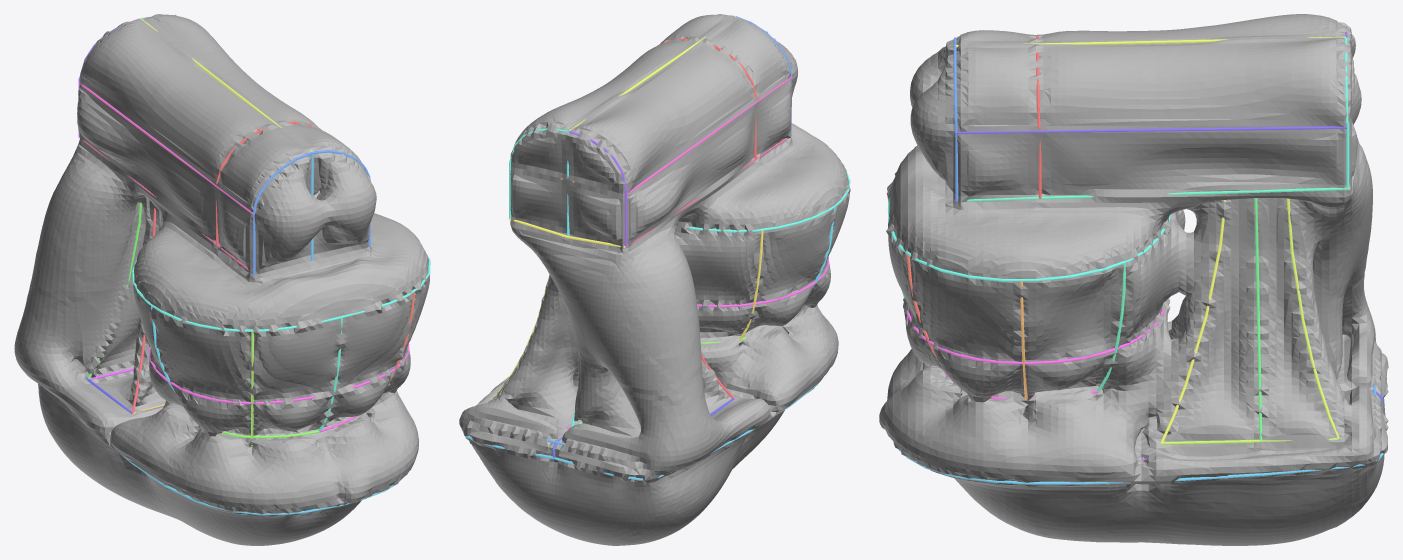
The model's file is t2f_blender.gltf.
3 views of the same model, side by side, from view 1: azimuth 30°, elevation 25°; view 2: azimuth 150°, elevation 25°; view 3: azimuth 270°, elevation 25° (orthographic). The views are drawn at different scales.
Size of the model in its own units: 0.4703 by 0.7278 by 0.6897.
